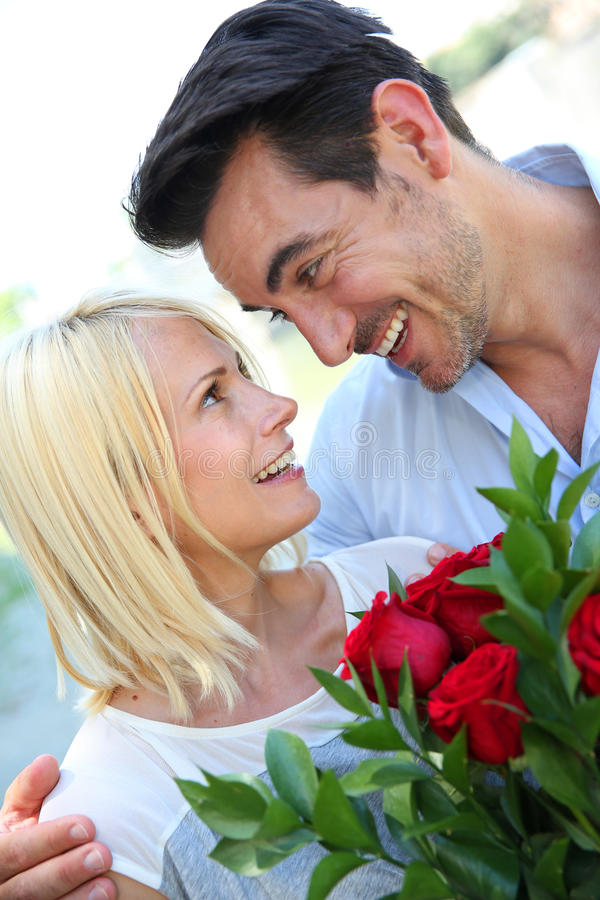RedRose: (426, 644, 542, 771), (335, 587, 444, 713), (405, 533, 511, 655), (565, 581, 600, 698)
